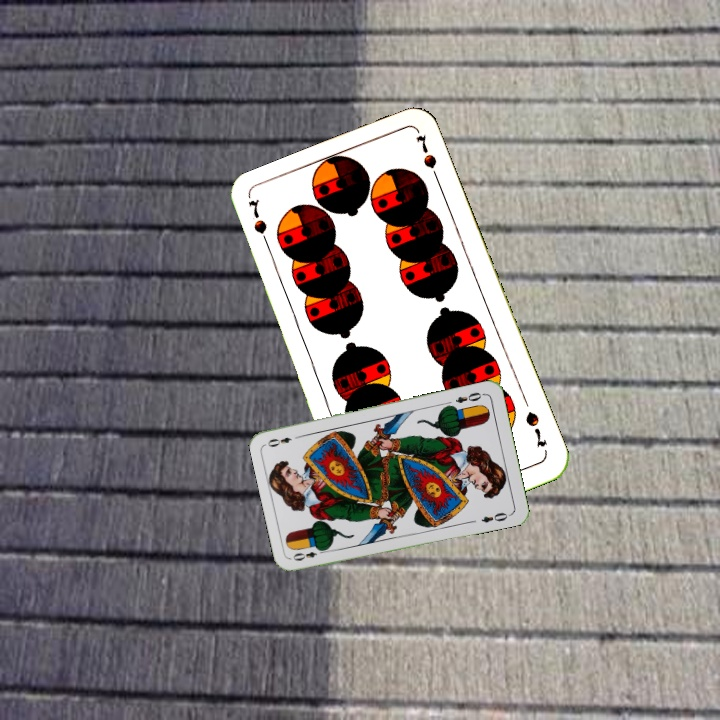EO: (289, 544, 329, 563), (451, 388, 487, 406)
S7: (244, 196, 274, 253), (521, 407, 550, 450)
